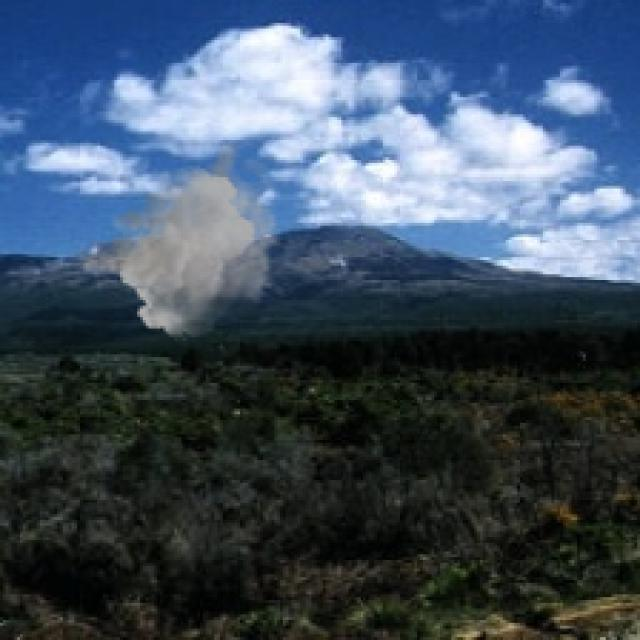smoke: (80, 140, 283, 340)
